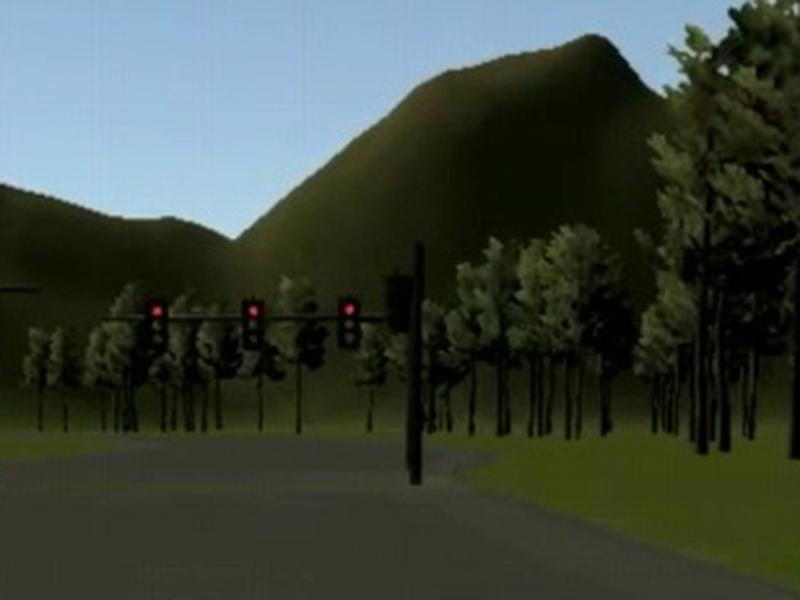Red: (241, 298, 268, 349), (148, 299, 170, 354), (339, 299, 361, 349)
